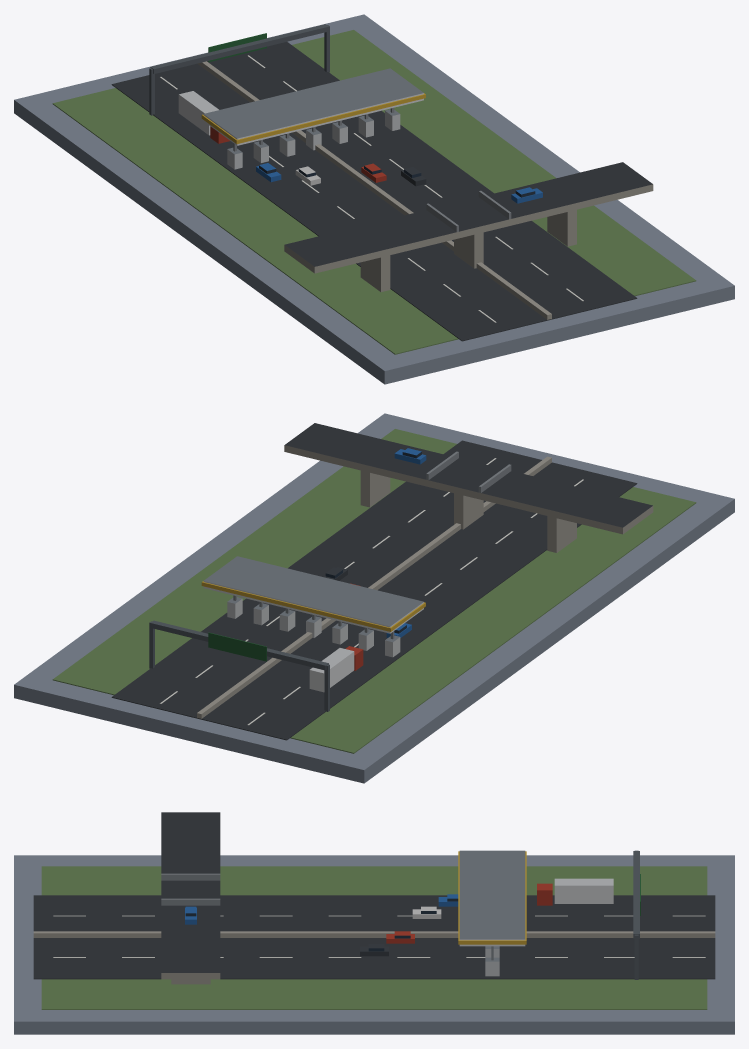
The model's file is motorway_junction.glb.
3 renders of one model, top to bottom at view 1: azimuth 30°, elevation 25°; view 2: azimuth 150°, elevation 25°; view 3: azimuth 270°, elevation 25°, orthographic. The views are drawn at different scales.
Parts seen in each view (by area): view 1: motorway_junction; view 2: motorway_junction; view 3: motorway_junction.
Part boxes in pixels (bbox=[...]): motorway_junction: bbox=[14, 14, 734, 384]; motorway_junction: bbox=[14, 413, 734, 783]; motorway_junction: bbox=[14, 812, 734, 1034].
Bounding box in the file's own units: 60 × 11.55 × 110.
